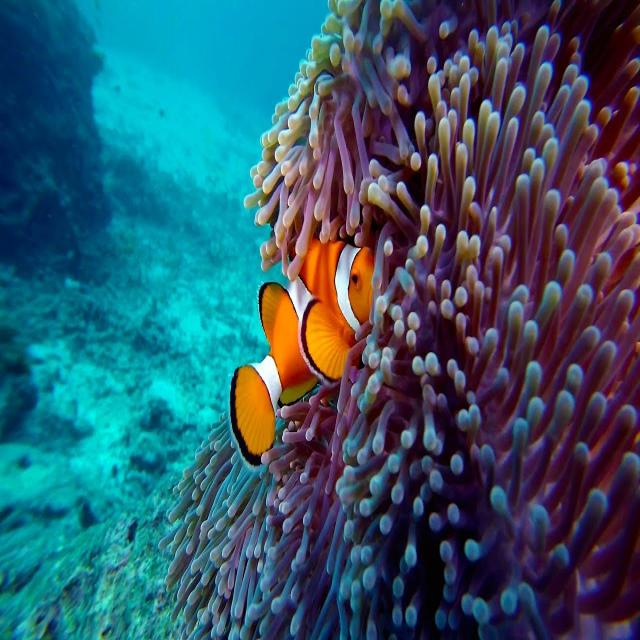ClownFish: (225, 235, 376, 462)
